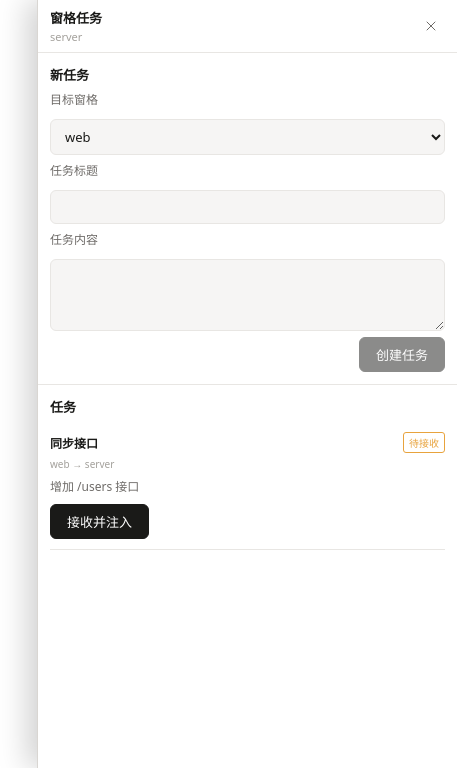
PaneTaskDrawer › Tab 切回冻结会话后仍要求重新确认
Step 1. Click the button "接收并注入" → click(100, 522), box [50,504,149,539]
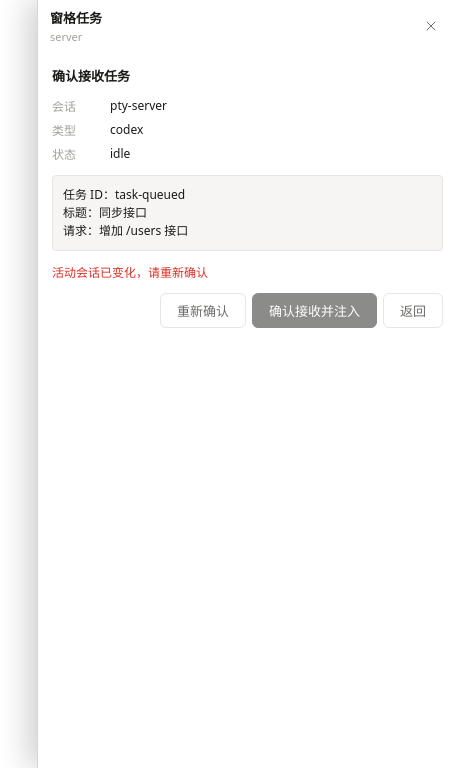
Result: the text "活动会话已变化，请重新确认" is shown at [52,264,208,281]
Result: the button "确认接收并注入" is disabled at [252,293,377,328]
Result: the button "重新确认" is shown at [160,293,246,328]
